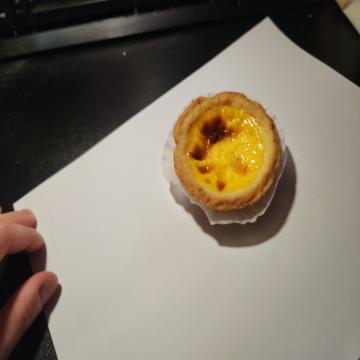EggTart: (172, 90, 281, 212)
